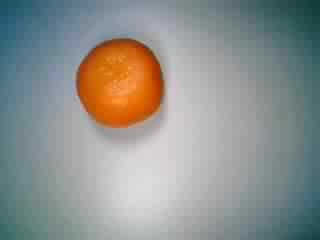orange: (73, 35, 169, 131)
